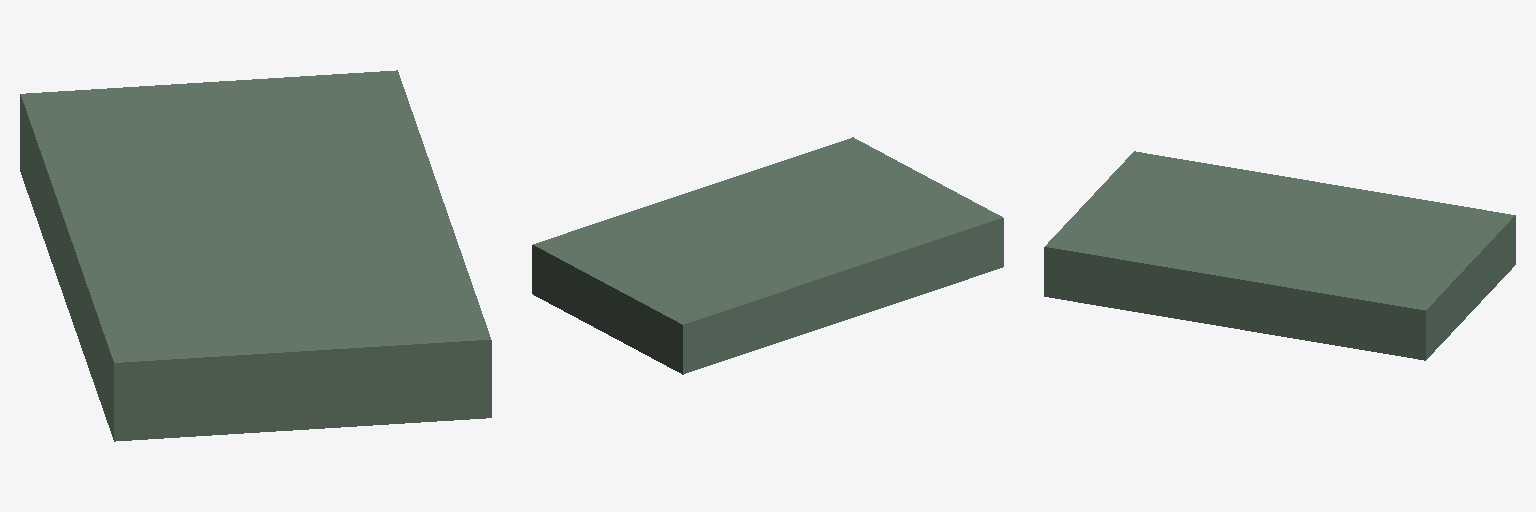
The robot description file, URDF, robot "Interference":
<?xml version="1.0"?>
<robot name="Interference">
  <link name="baseLink">
    <inertial>
      <origin xyz="0.0 0.0 0.0" rpy="0.0 0.0 0.0"/>
      <inertia ixx="0.0" ixy="0.0" ixz="0.0" iyy="0.0" iyz="0.0" izz="0.0"/>
      <mass value="0"/>
    </inertial>
    <visual>
      <origin xyz="0.0 0.0 0.0" rpy="0.0 0.0 1.1931372187719131"/>
      <geometry>
        <box size="0.074310562018939 0.044027970976743935 0.01"/>
      </geometry>
      <material name="color">
        <color rgba="0.4403865363164249 0.5234730749462014 0.45507857741438795 1.0"/>
      </material>
    </visual>
  </link>
</robot>

--- Facts derived from the render (not from the file) ---
The picture shows the robot from 3 angles, left to right: view 1: azimuth 30°, elevation 25°; view 2: azimuth 150°, elevation 25°; view 3: azimuth 270°, elevation 25°; orthographic projection.
Robot: Interference — 1 links, 0 joints (none); root link baseLink; default pose: every joint at zero.
Links seen in each view (by area): view 1: baseLink; view 2: baseLink; view 3: baseLink.
Boxes of the visible links, <box> form: baseLink: <box>20,70,491,441</box>; baseLink: <box>532,137,1003,374</box>; baseLink: <box>1044,151,1515,360</box>.
Size in the robot's own frame: 0.0683 by 0.0853 by 0.01 metres.
Geometry: primitives only (box / cylinder / sphere), no mesh files.